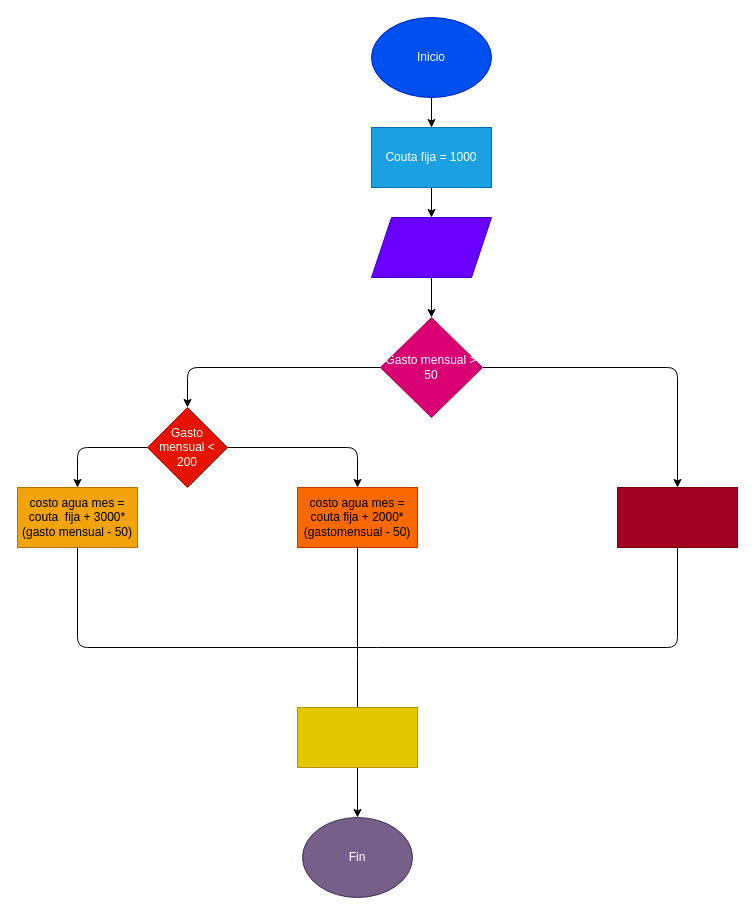
The diagram is 755 pixels wide and 915 high, and some of its shapes have lost their labels. Here are the shapes that lost their labels. From the top down, the centre of each, then its label:
At point 431,247: "Gastro mensual".
At point 677,517: "costo agua mes = gasto mensual".
At point 357,737: "couta agua valor".
